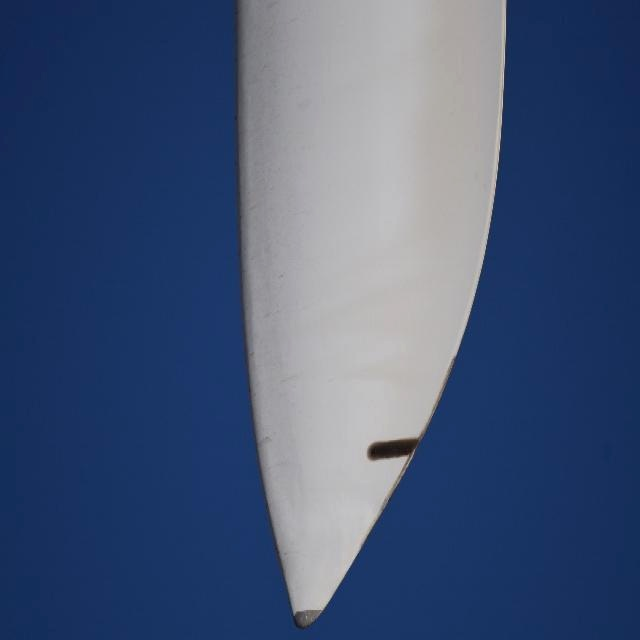Burn Mark: (365, 432, 419, 462)
Coating_defects: (291, 597, 326, 627)
